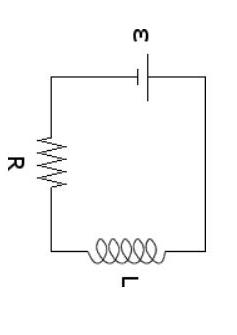inductor: (66, 221, 176, 272)
